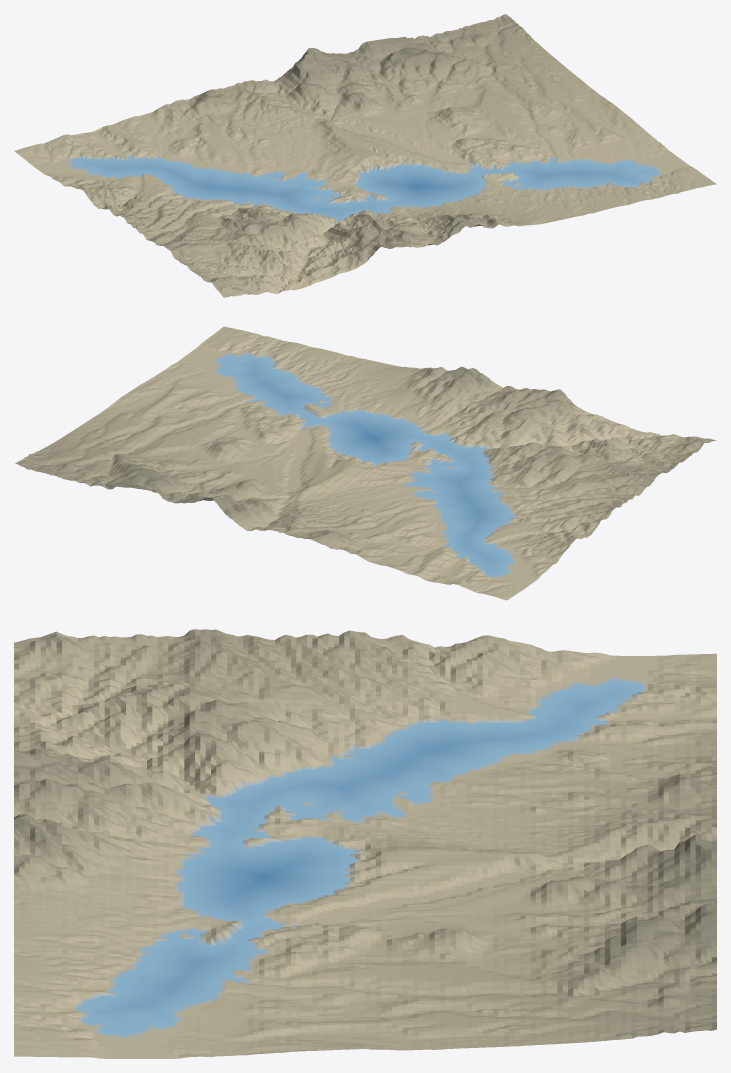
The model's file is roosevelt_lake_az.glb.
3 views of the same model, one above another, from view 1: azimuth 30°, elevation 25°; view 2: azimuth 150°, elevation 25°; view 3: azimuth 270°, elevation 25° (orthographic). The views are drawn at different scales.
Visible parts, largest first — view 1: terrain, water; view 2: terrain, water; view 3: terrain, water.
Part boxes in pixels (left/top/right/bottom): terrain: left=14, top=14, right=716, bottom=297; water: left=71, top=156, right=659, bottom=221; terrain: left=15, top=326, right=716, bottom=600; water: left=216, top=354, right=514, bottom=576; terrain: left=14, top=629, right=716, bottom=1058; water: left=78, top=680, right=642, bottom=1036.
Size of the model in its own units: 20895 by 1408 by 15405.
